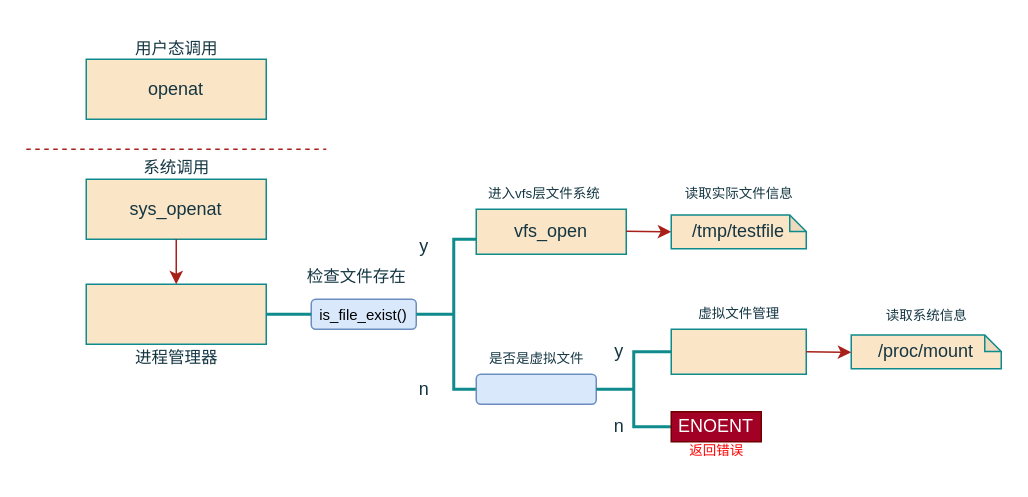
Image size: 1028x497. Some labels were removed from this diagram. Each missing label, with the centre of its shape:
"is_virtual()" goes at point (535, 388).
"k_pm.open" goes at point (175, 313).
"k_vfs.openat" goes at point (738, 351).
